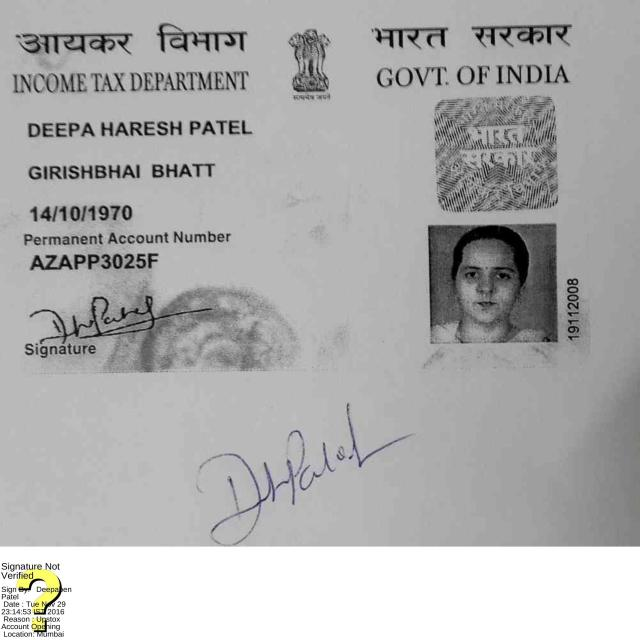pan_card: (2, 2, 596, 377)
